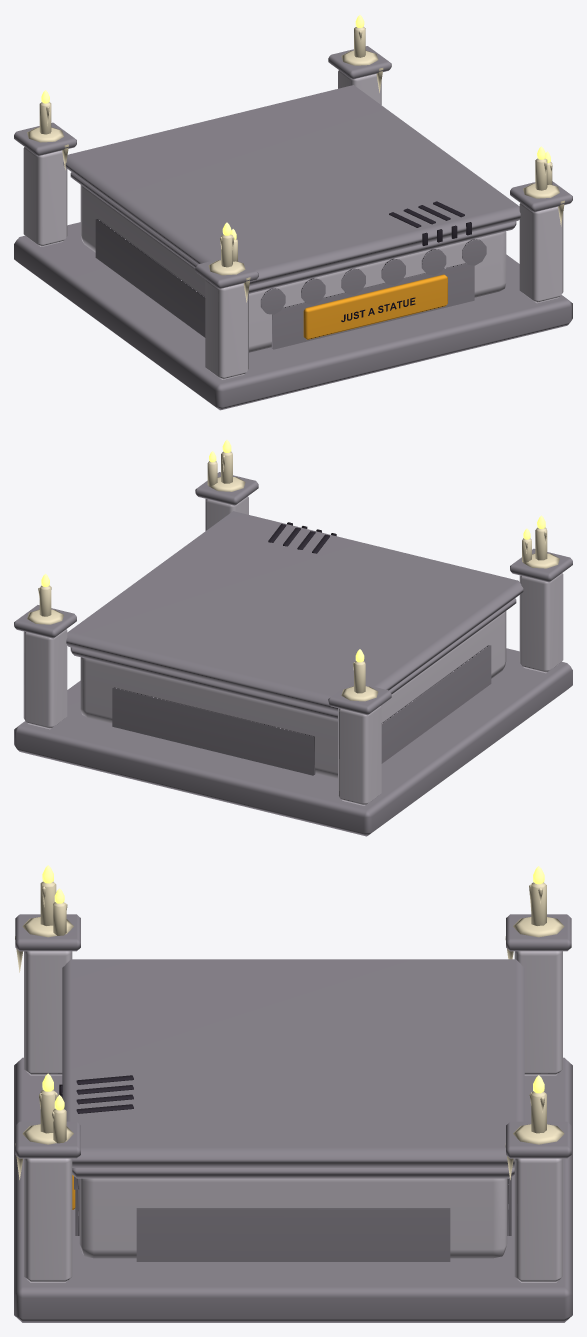
The model's file is gargoyle_plinth.glb.
3 renders of one model, top to bottom at view 1: azimuth 30°, elevation 25°; view 2: azimuth 150°, elevation 25°; view 3: azimuth 270°, elevation 25°, orthographic. The views are drawn at different scales.
Parts seen in each view (by area): view 1: Plinth, Posts; view 2: Plinth, Posts; view 3: Plinth, Posts.
Boxes of the visible parts, left/top/right/bottom form: Plinth: left=14, top=85, right=572, bottom=410; Posts: left=14, top=15, right=572, bottom=379; Plinth: left=14, top=511, right=572, bottom=836; Posts: left=14, top=440, right=572, bottom=805; Plinth: left=14, top=959, right=572, bottom=1322; Posts: left=15, top=865, right=571, bottom=1282.
Bounding box in the file's own units: 1.96 × 0.9275 × 1.96.
